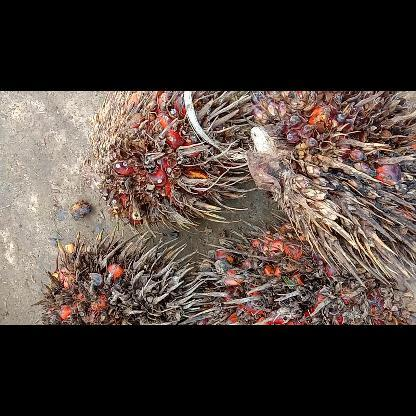Terlalu masak: (241, 91, 415, 291), (85, 90, 273, 240), (195, 216, 415, 324), (38, 220, 220, 324)
